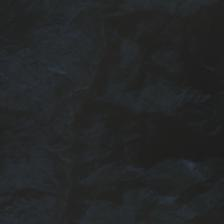landslides: (48, 67, 80, 88), (158, 197, 175, 206)
